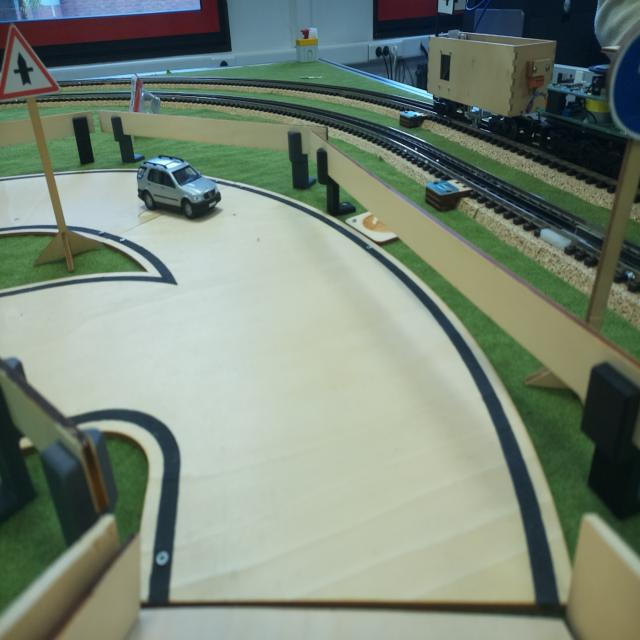obstacle_voiture: (132, 145, 225, 225)
panneau_intersection: (0, 26, 57, 110)
